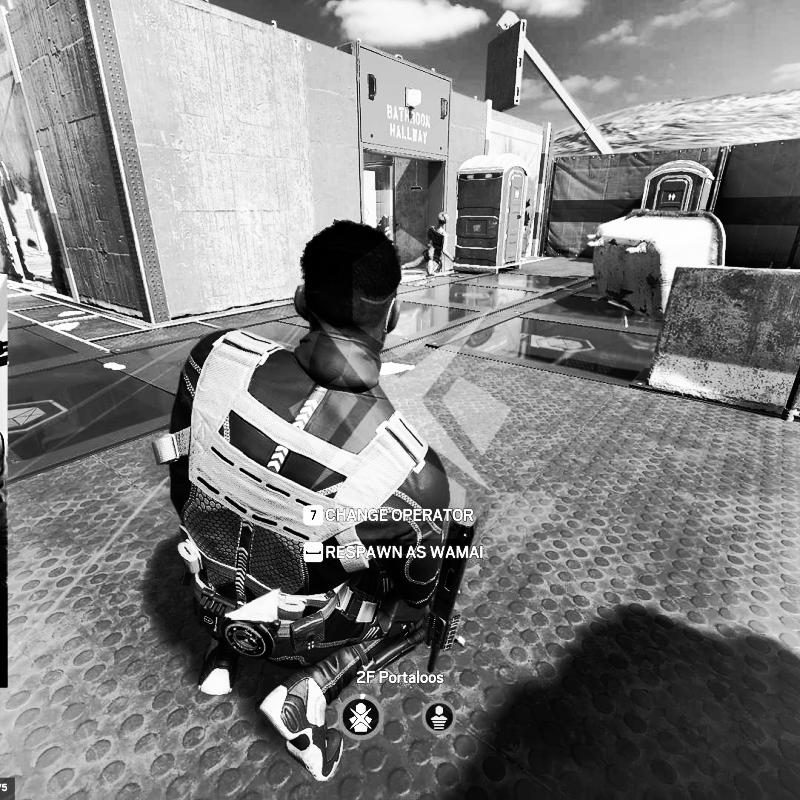Character: (152, 218, 471, 785), (400, 210, 460, 278)
Head: (290, 219, 404, 358), (437, 211, 449, 228)
